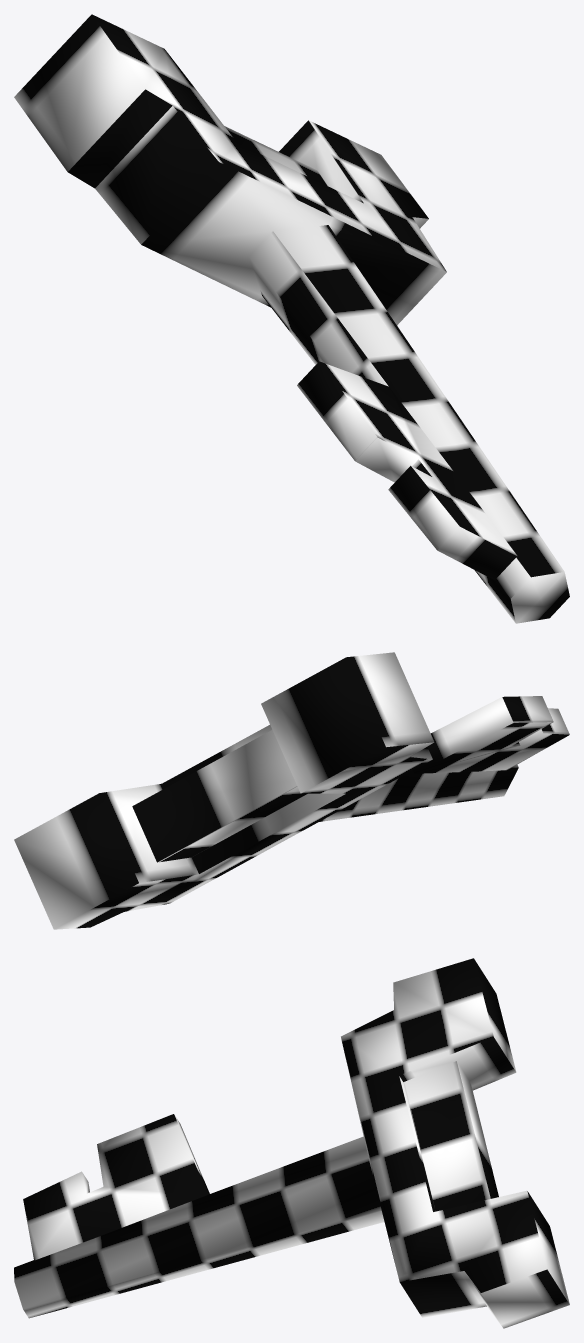
The model's file is initqu6.dae.
3 renders of one model, top to bottom at view 1: azimuth 30°, elevation 25°; view 2: azimuth 150°, elevation 25°; view 3: azimuth 270°, elevation 25°, orthographic. The views are drawn at different scales.
Parts seen in each view (by area): view 1: item; view 2: item; view 3: item.
Boxes of the visible parts, <box> form: item: <box>14,14,569,623</box>; item: <box>14,652,569,929</box>; item: <box>14,958,569,1328</box>.
Bounding box in the file's own units: 0.9971 × 1.62 × 0.9819.
Materials: 1 (1 with a texture image).
